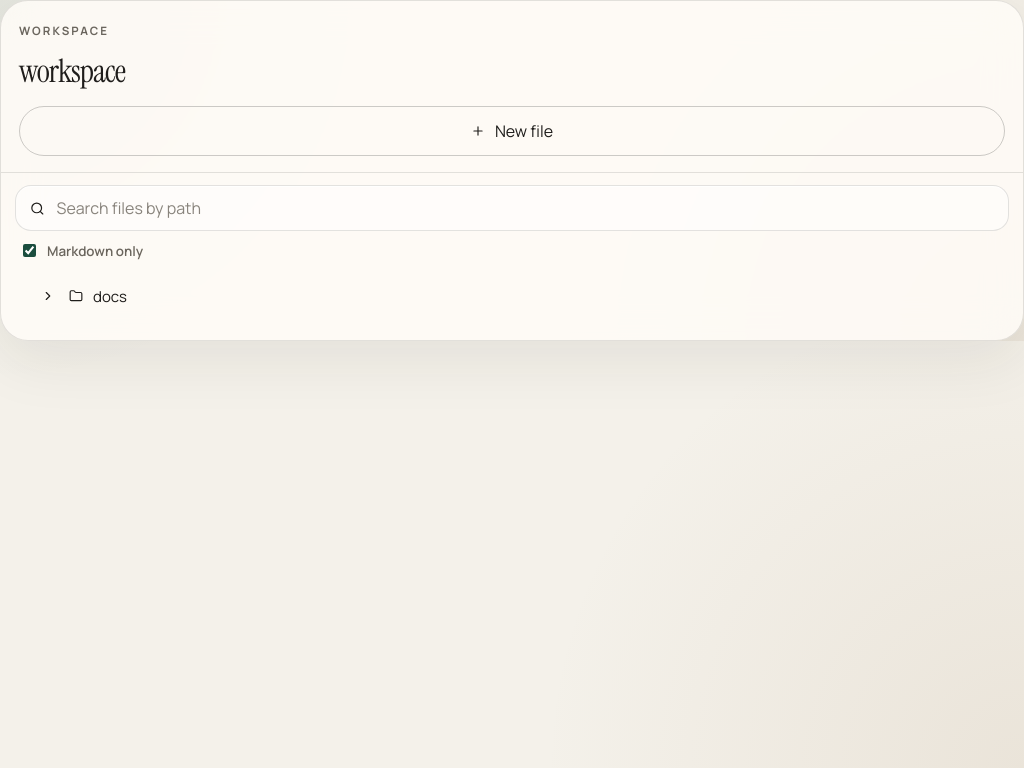
Test: Sidebar › matches files through directory names, not just the file name
Type "dgs" into the search field labelled "Search files" at (524, 208), box [55,196,994,220]
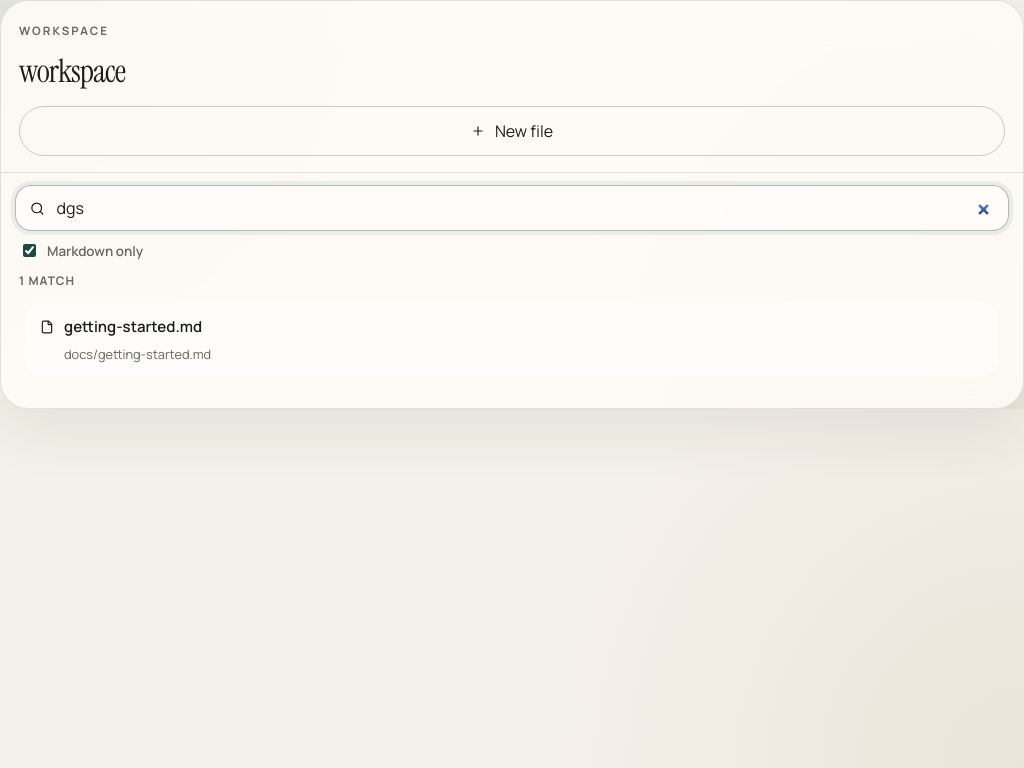
Expected: the text "docs/getting-started.md" is shown, [64,345,211,363]
